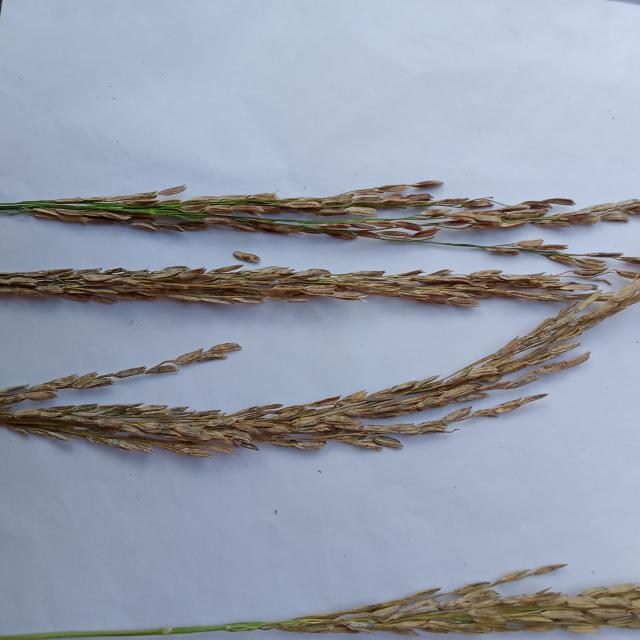Neck_Blast: (0, 277, 640, 453), (14, 180, 572, 236), (0, 266, 560, 304), (265, 579, 636, 636)
